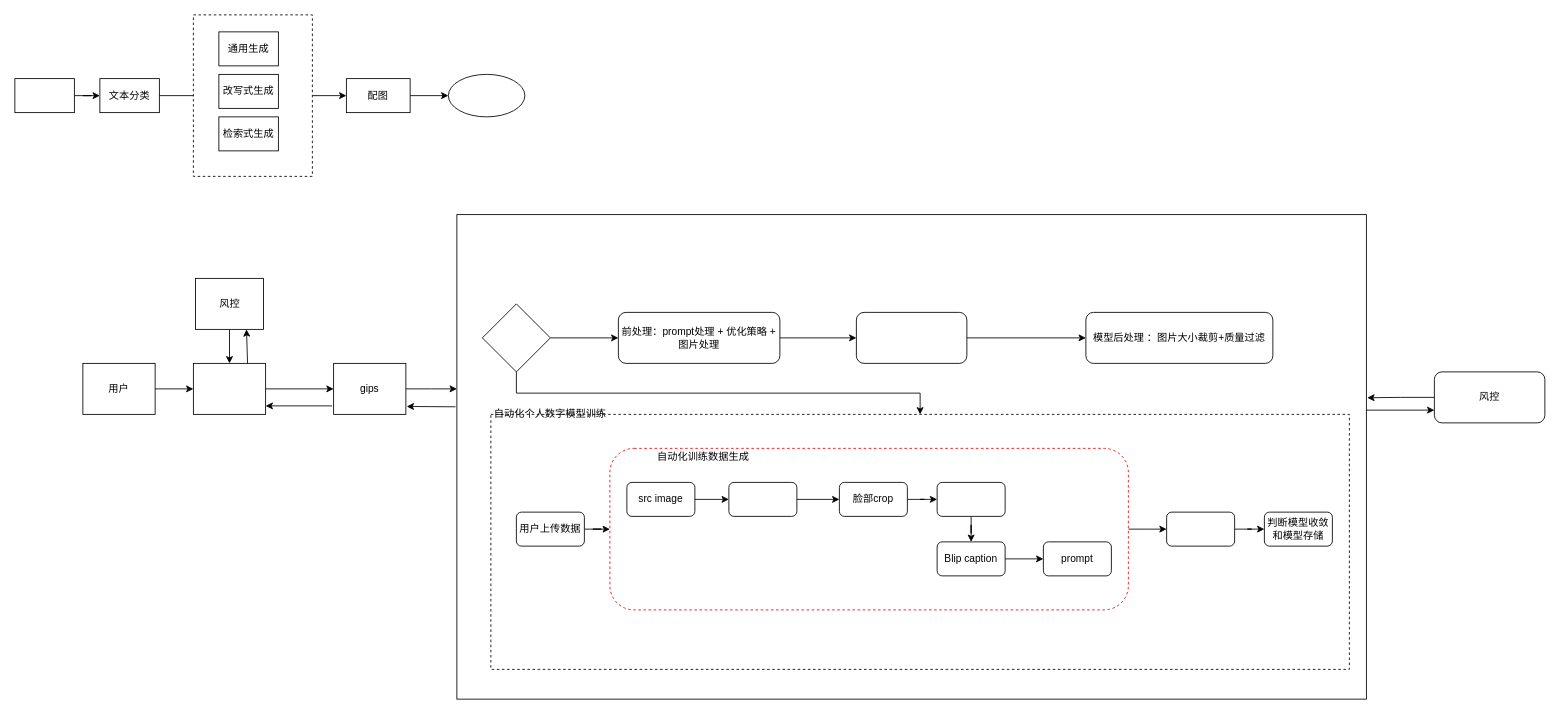
Image size: 1560x714. Some labels were removed from this diagram. The centre of each missing label's shape, as x and y in pixels:
"dst image" belongs at pixel 970 499.
"prompt 素材" belongs at pixel 44 95.
"产研" belongs at pixel 229 388.
"低质过滤： 不清晰、低质、非同人" belongs at pixel 762 499.
"图文结果" belongs at pixel 486 95.
"图生图模型" belongs at pixel 911 337.
"是否是个人数据" belongs at pixel 516 337.
"模型训练" belongs at pixel 1200 528.
